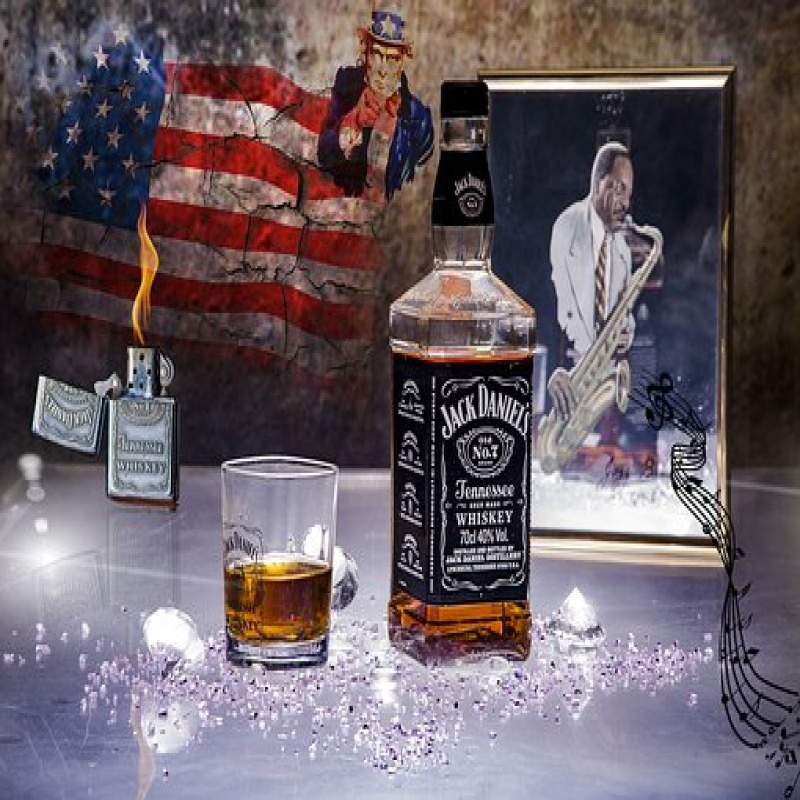whiskey: (209, 452, 337, 661)
